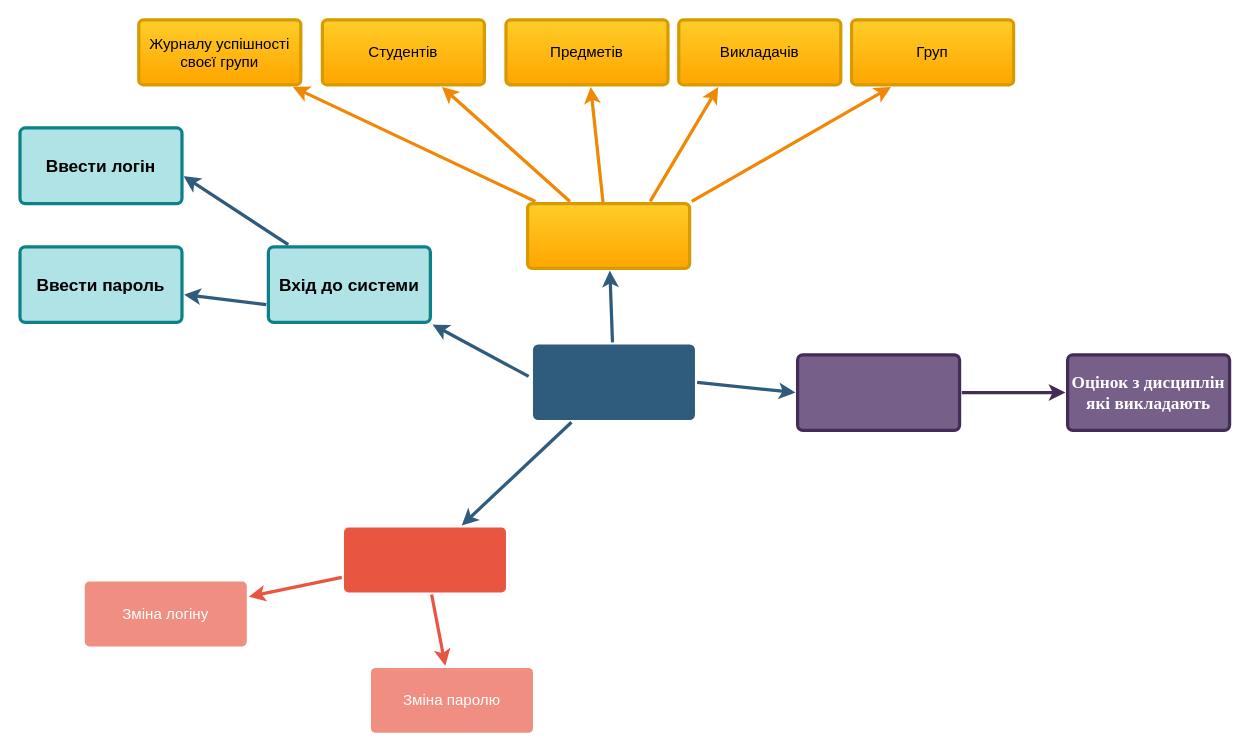
This 1250x752 diagram has some shape labels left out. Each missing label, with the centre of its shape:
Викладачі: (x=613, y=382)
Внесення даних: (x=878, y=392)
Змінна даних: (x=424, y=559)
Перегляд: (x=608, y=235)
